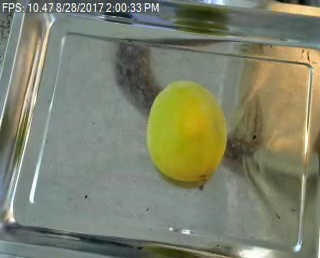Mango: (148, 81, 229, 181)
